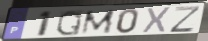0: (115, 8, 141, 35)
1: (38, 10, 52, 38)
M: (79, 9, 117, 36)
Q: (55, 9, 85, 37)
X: (141, 6, 173, 34)
Z: (168, 5, 203, 34)
